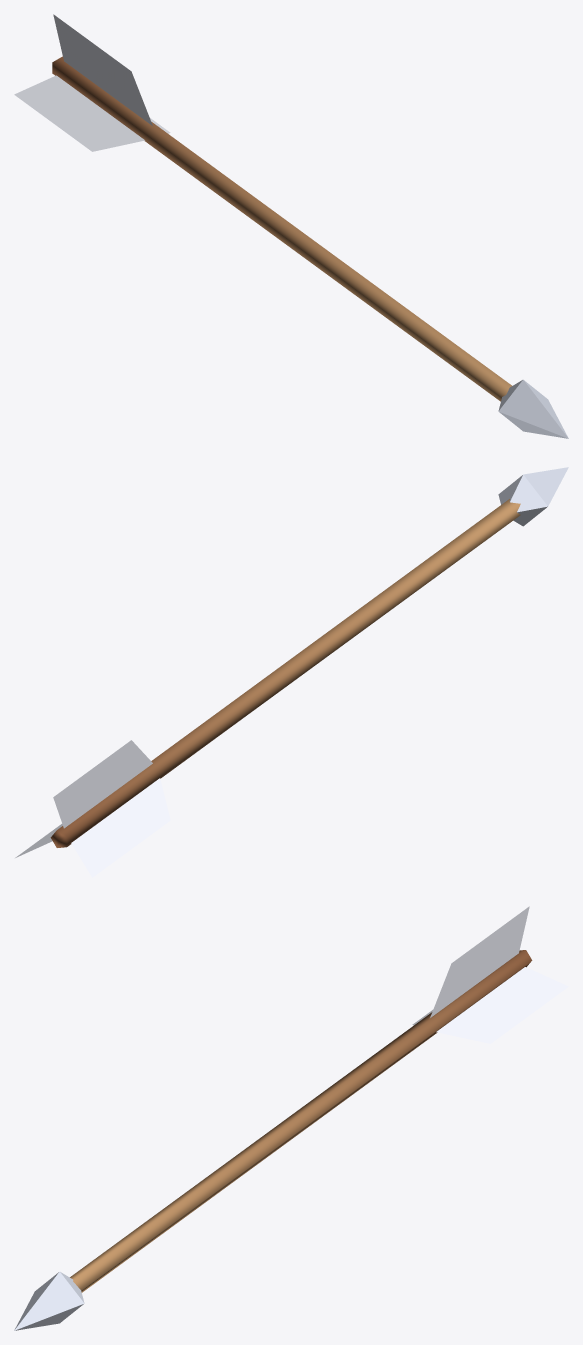
The model's file is proj_arrow.glb.
The picture shows the model from 3 angles, top to bottom: view 1: azimuth 30°, elevation 25°; view 2: azimuth 150°, elevation 25°; view 3: azimuth 330°, elevation 25°; orthographic projection.
Parts seen in each view (by area): view 1: proj_arrow; view 2: proj_arrow; view 3: proj_arrow.
Boxes of the visible parts, x1,y1,x2,y2 form: proj_arrow: (14, 14, 568, 438); proj_arrow: (15, 467, 568, 877); proj_arrow: (14, 906, 568, 1330).
Size of the model in its own units: 0.0693 by 0.062 by 0.79.
